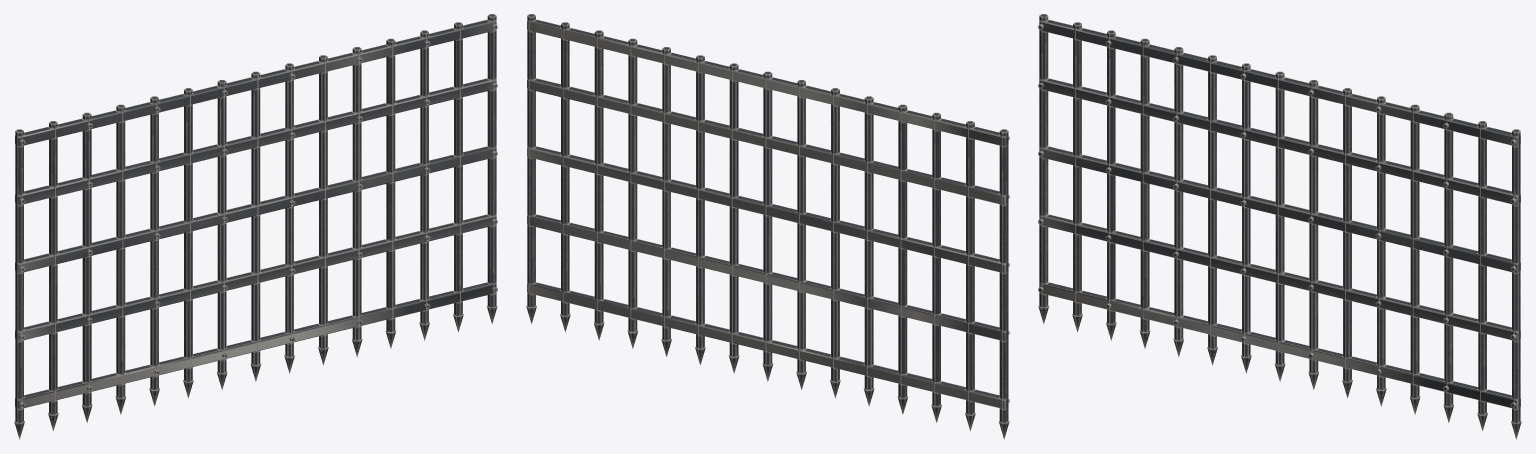
The model's file is gallows_gate.glb.
3 views of the same model, side by side, from view 1: azimuth 30°, elevation 25°; view 2: azimuth 150°, elevation 25°; view 3: azimuth 330°, elevation 25° (orthographic).
Visible parts, largest first — view 1: gallows_gate; view 2: gallows_gate; view 3: gallows_gate.
Boxes of the visible parts, bbox=[...] form: gallows_gate: bbox=[14, 14, 497, 439]; gallows_gate: bbox=[526, 14, 1009, 439]; gallows_gate: bbox=[1038, 14, 1521, 439].
Size of the model in its own units: 8.14 by 5 by 0.185.
Materials: 1 (1 with a texture image).
